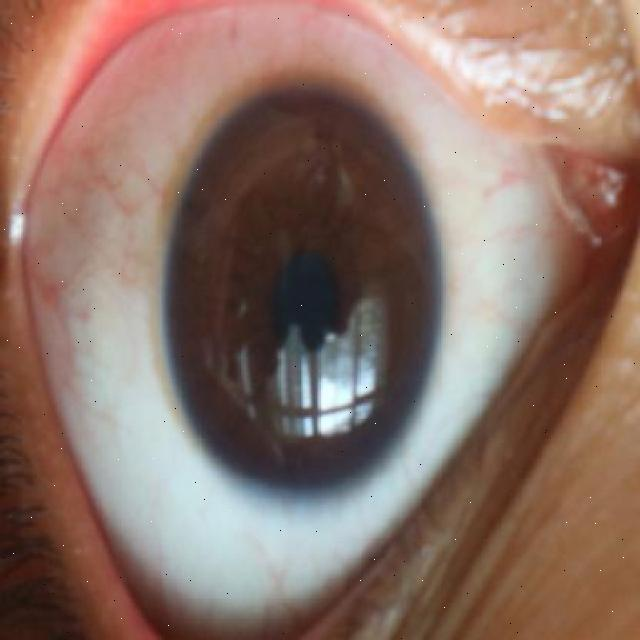Normal: (162, 90, 443, 500)
